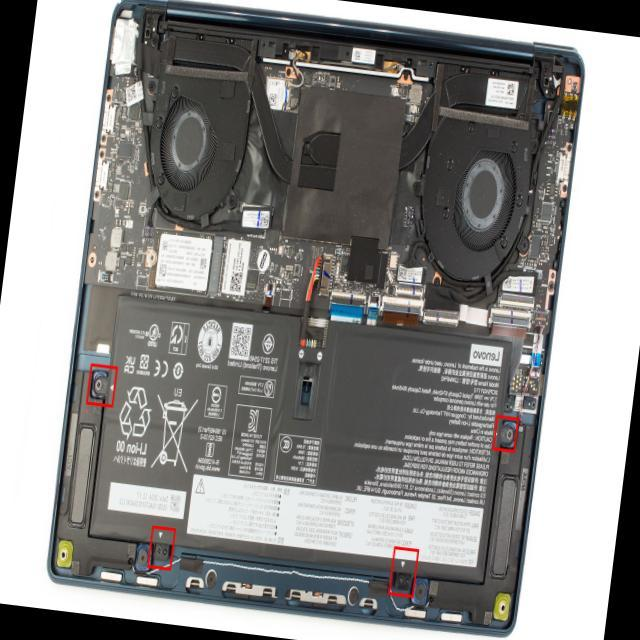Battery: (145, 228, 225, 298)
RAM: (101, 300, 505, 559)
SSD: (502, 424, 515, 444), (226, 190, 236, 211), (154, 542, 164, 560), (146, 249, 155, 268), (396, 571, 406, 588), (93, 379, 104, 393), (519, 238, 529, 252)
